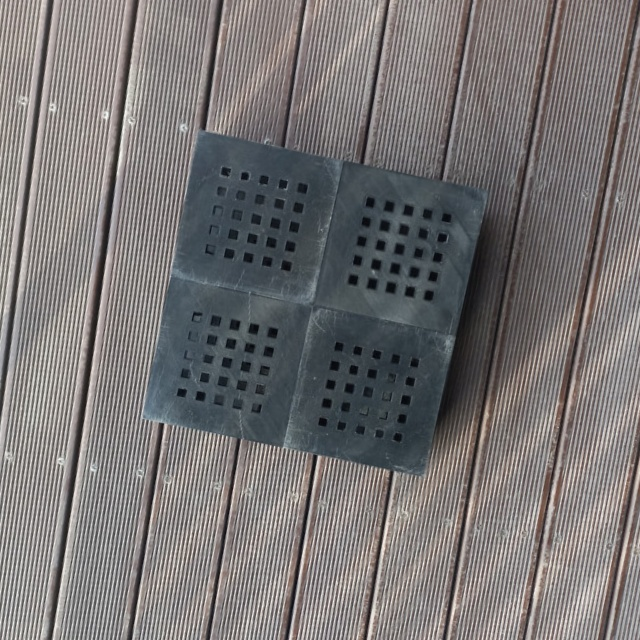pallet: (129, 120, 496, 487)
